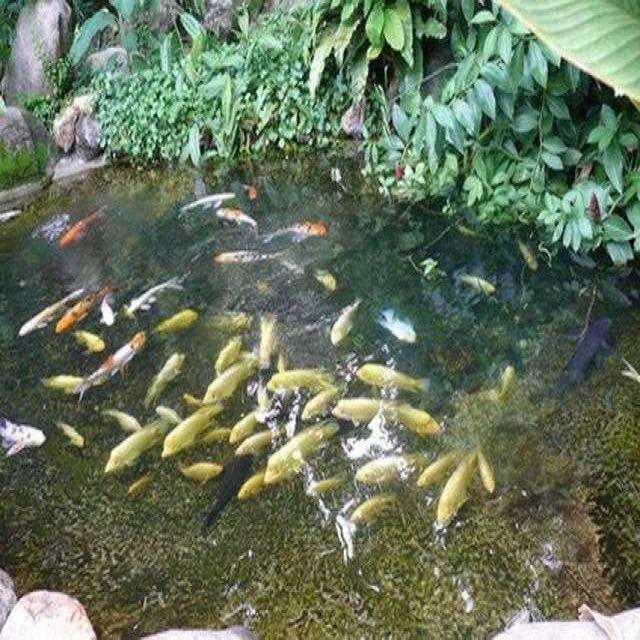Ponds: (5, 155, 640, 638)
